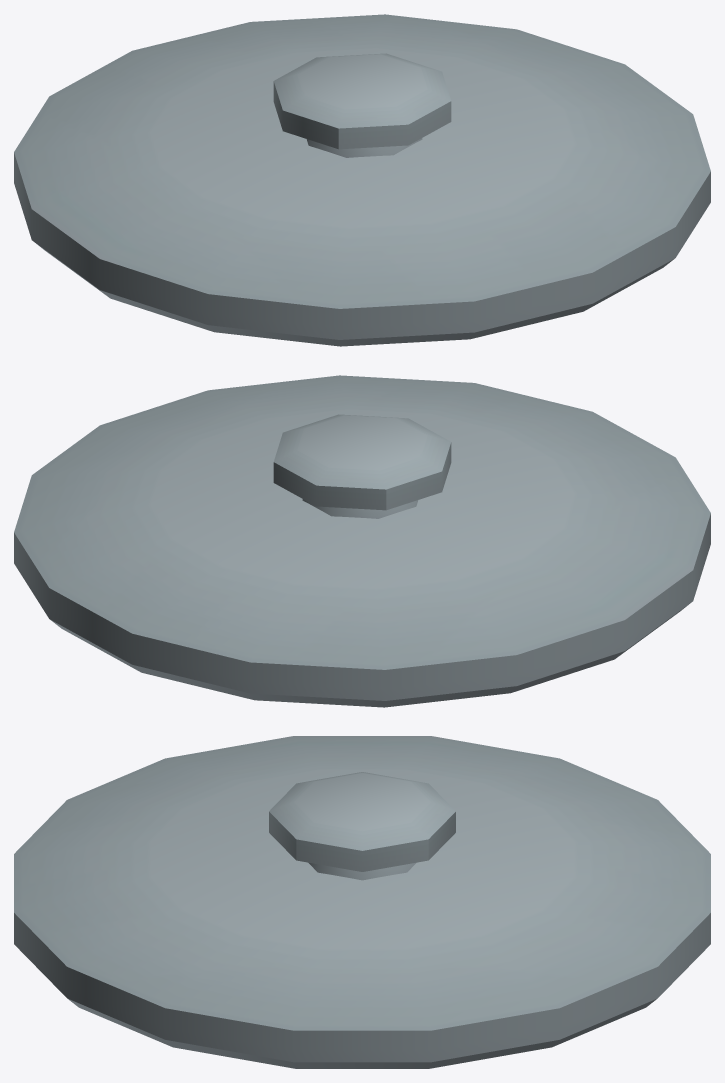
The model's file is lid_A.glb.
The picture shows the model from 3 angles, top to bottom: view 1: azimuth 30°, elevation 25°; view 2: azimuth 150°, elevation 25°; view 3: azimuth 270°, elevation 25°; orthographic projection.
Parts seen in each view (by area): view 1: lid_A; view 2: lid_A; view 3: lid_A.
Part boxes in pixels (x1,y1,x2,y2): lid_A: (14, 14, 710, 346); lid_A: (14, 375, 710, 707); lid_A: (14, 736, 710, 1068).
Bounding box in the file's own units: 1 × 0.2004 × 1.
1 material, 1 textured.
